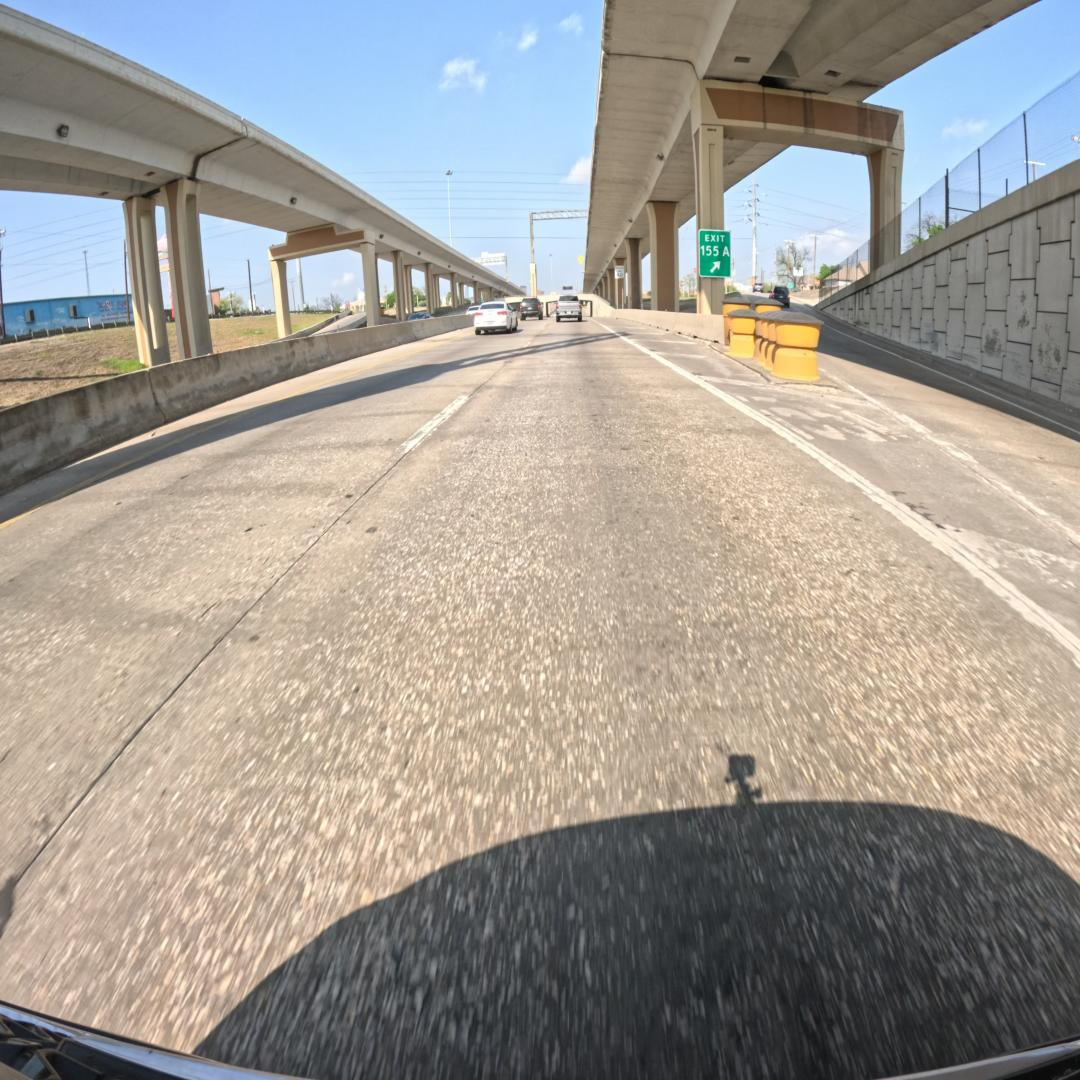lane0: (0, 323, 1080, 1077)
lane1: (0, 333, 525, 929)
